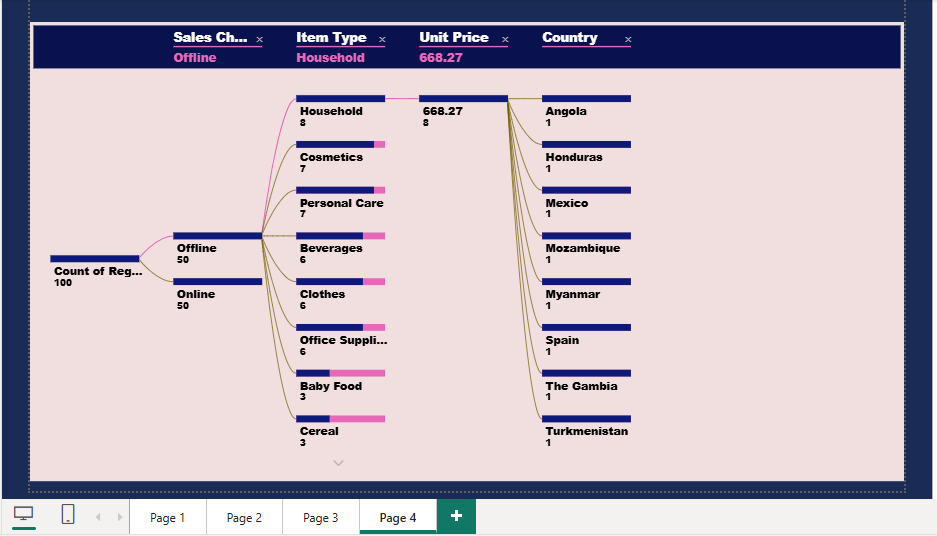

What the dashboard file says about the page in this screenshot:
{"tool":"powerbi","page":{"name":"Page 4","canvas":[1280,720],"ordinal":3},"visuals":[{"type":"decompositionTreeVisual","fields":{"ExplainBy":["Amazon Sales data.Sales Channel","Amazon Sales data.Item Type","Amazon Sales data.Unit Price","Amazon Sales data.Country"],"Analyze":["CountNonNull(Amazon Sales data.Region)"]},"box":[0,33.1,1280,672.5],"z":0}]}

Visuals, with their boxes on the page's 1280x720 design canvas (x1, y1, x2, y2). These are canvas units, not pixel positions in the 937x536 screenshot, which may show the page scaled, cropped or inside an application window:
decompositionTreeVisual - Amazon Sales data.Sales Channel x Amazon Sales data.Item Type: 0/33/1280/706
